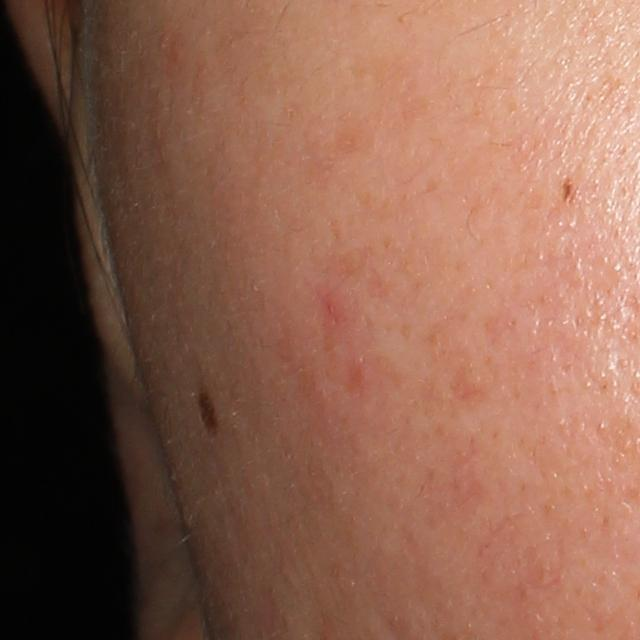nevus: (195, 389, 221, 439), (558, 174, 581, 206)
